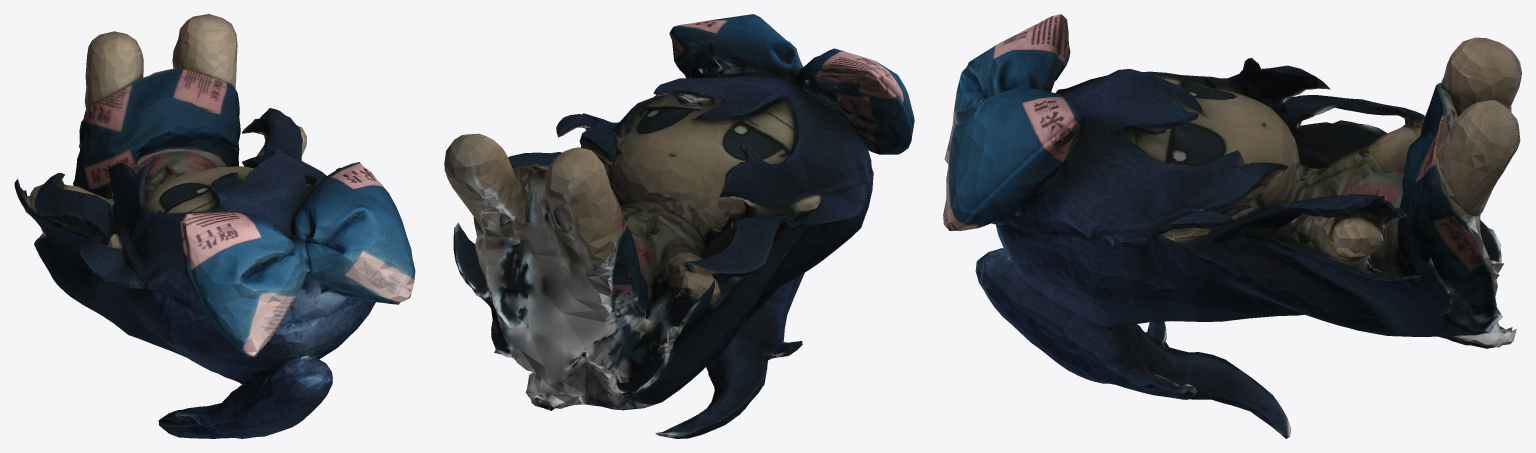
File: shion.obj
The picture shows the model from 3 angles, left to right: view 1: azimuth 30°, elevation 25°; view 2: azimuth 150°, elevation 25°; view 3: azimuth 270°, elevation 25°; orthographic projection. The views are drawn at different scales.
Parts seen in each view (by area): view 1: Shion_low; view 2: Shion_low; view 3: Shion_low.
Part boxes in pixels (<box>): Shion_low: <box>14,14,415,438</box>; Shion_low: <box>444,14,914,438</box>; Shion_low: <box>943,14,1521,438</box>.
Size of the model in its own units: 21.1 by 23.35 by 30.94.
Materials: 1 (1 with a texture image).
